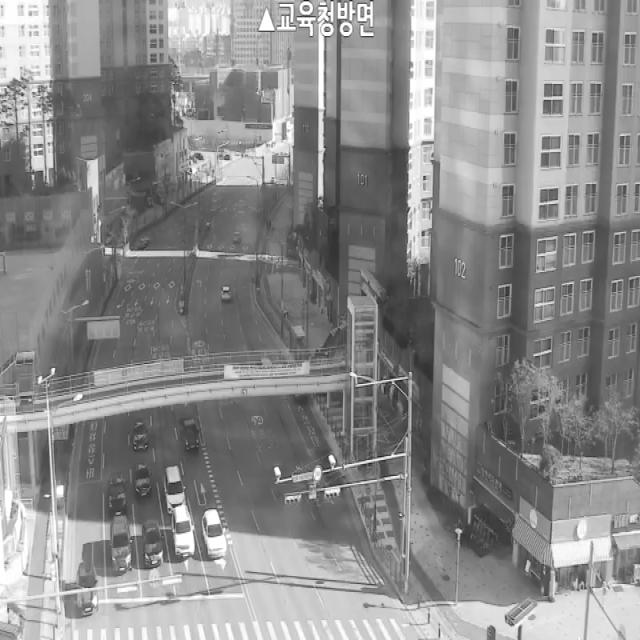Car: (110, 515, 133, 572), (171, 506, 195, 557), (202, 508, 226, 558), (77, 561, 98, 616), (164, 465, 186, 515), (143, 518, 164, 568), (108, 474, 127, 515), (135, 461, 151, 498), (184, 419, 199, 451), (133, 422, 148, 451), (221, 285, 231, 302)
